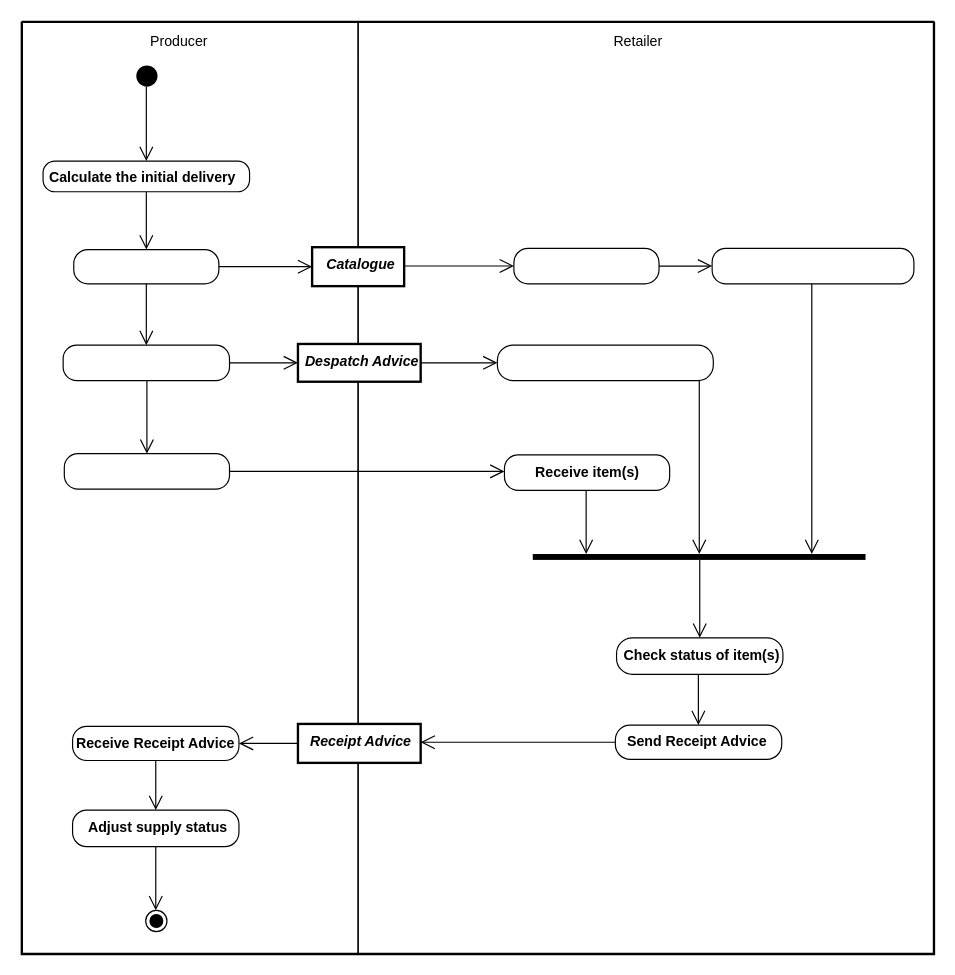
Image size: 955x975. Some labels were removed from this diagram. Here are the shapes that lost their labels. From the top down, the centre of each, then its label:
At point (146, 266): "Send Catalogue".
At point (586, 265): "Receive Catalogue".
At point (812, 265): "Update products database".
At point (146, 362): "Send Despatch Advice".
At point (604, 362): "Receive Despatch Advice".
At point (146, 471): "Despatch item(s)".
